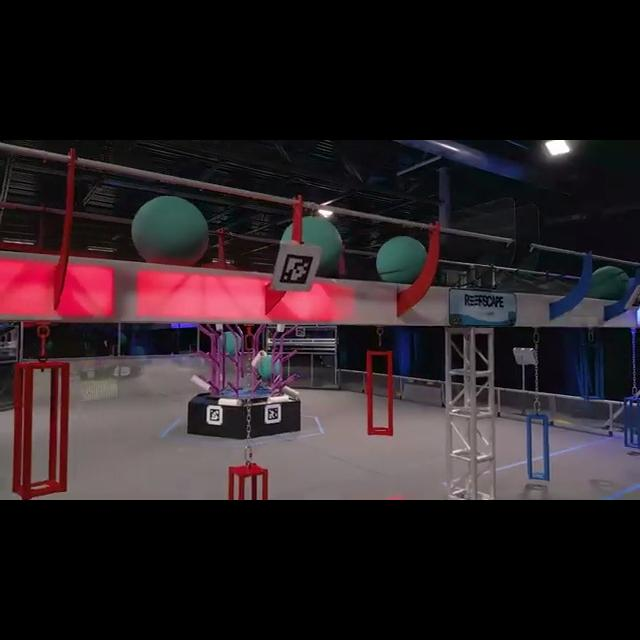ALGAE: (130, 195, 210, 269), (284, 220, 342, 280), (377, 234, 429, 286), (586, 264, 630, 302)
